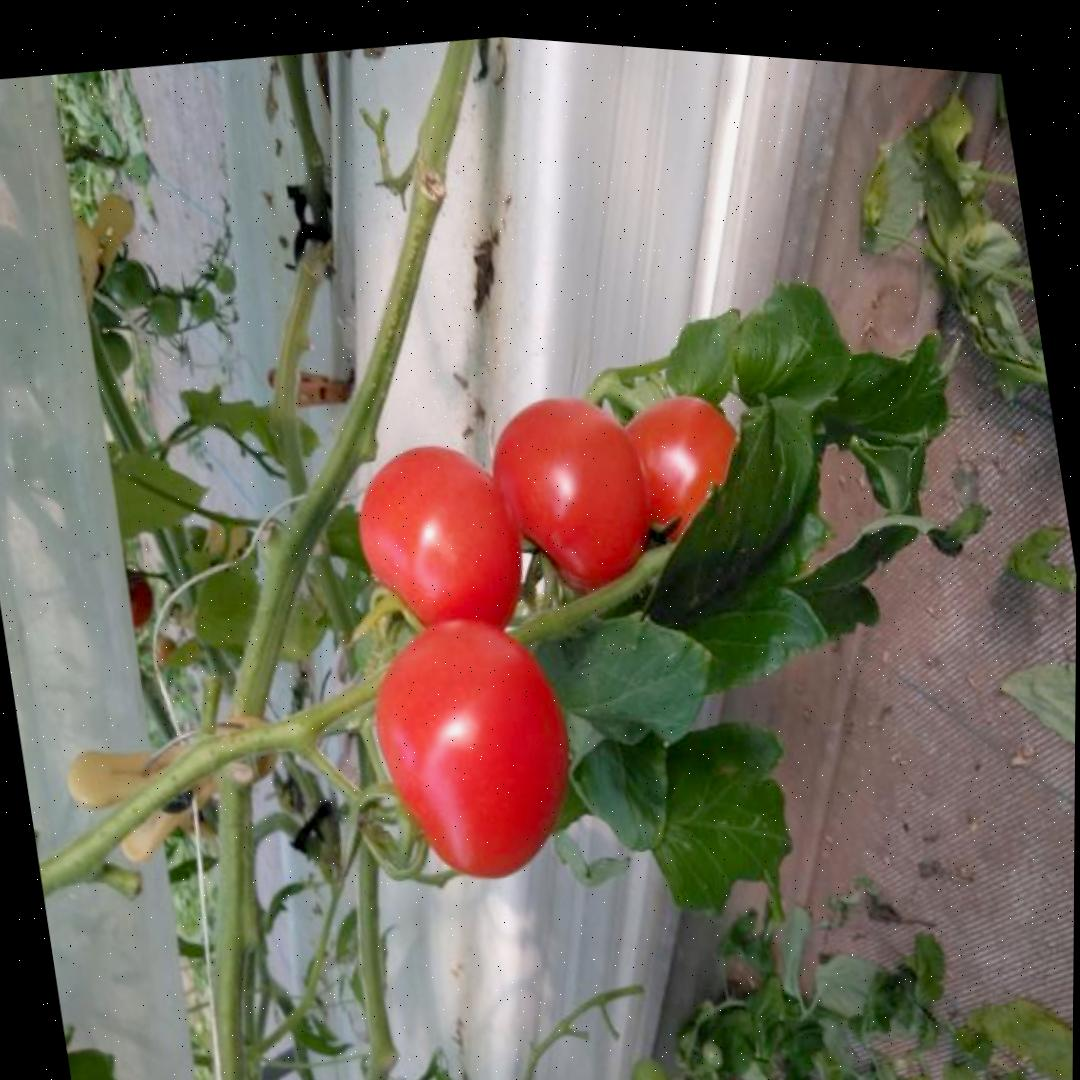matang: (355, 595, 588, 901), (345, 428, 538, 676), (478, 377, 666, 625)
